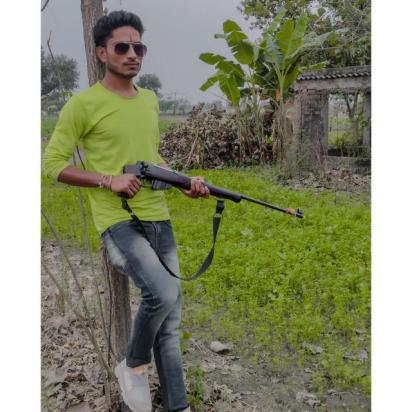Gun: (116, 160, 304, 220)
